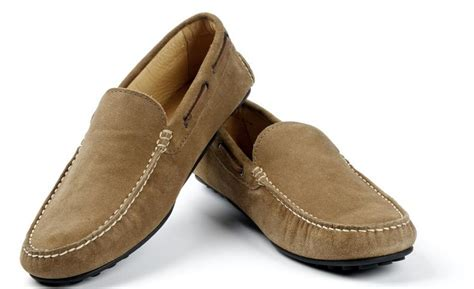gamuza: (21, 13, 417, 278)
